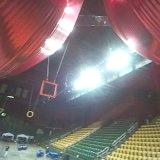Orange_Square_GShape: (41, 80, 57, 98)
Yellow_Circle_GShape: (26, 111, 34, 118)
Yellow_Triangle_Gshape: (0, 107, 4, 114)
